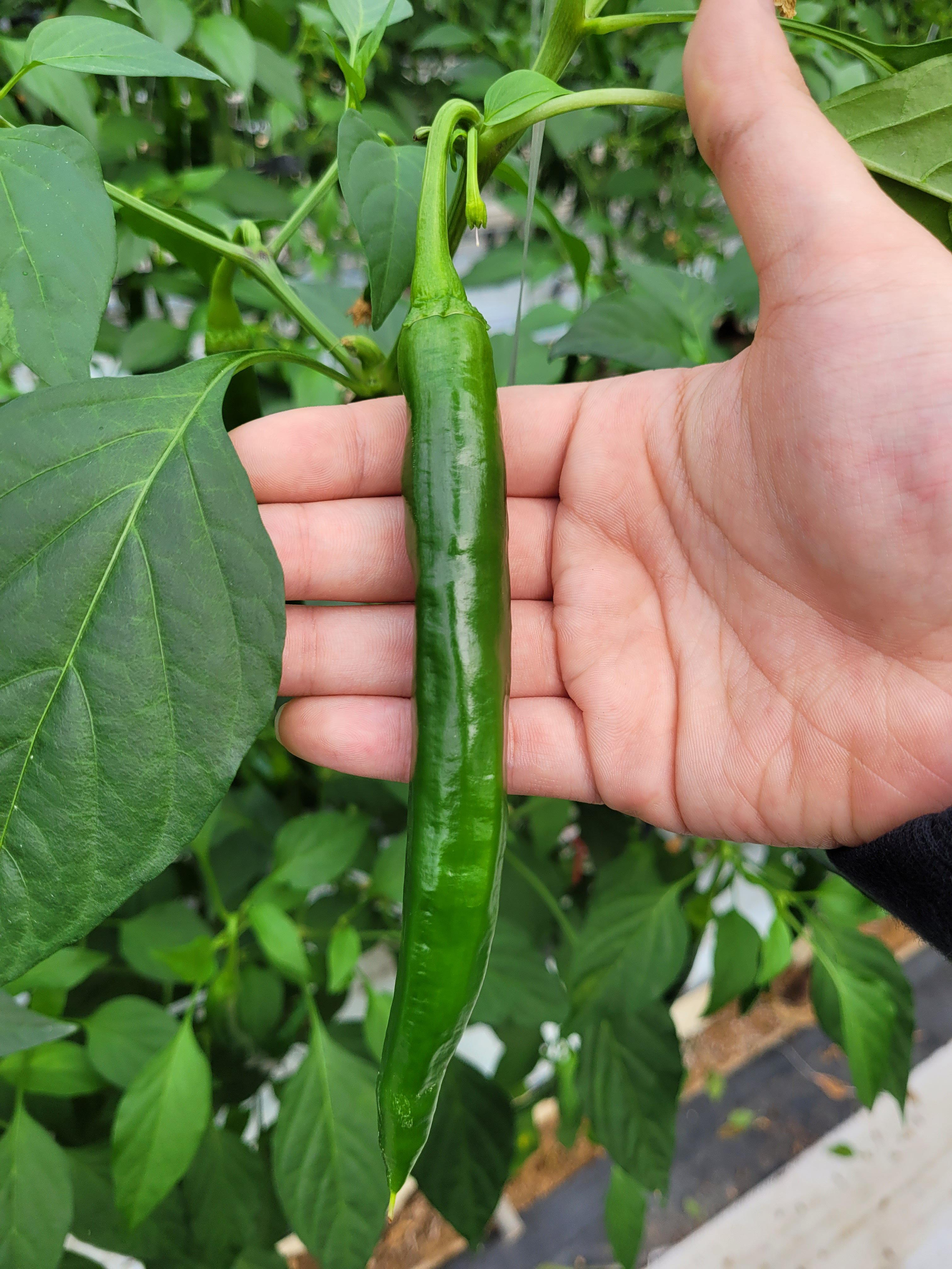Buah Cabai Sehat: (0, 366, 295, 1034), (375, 301, 518, 1206)
